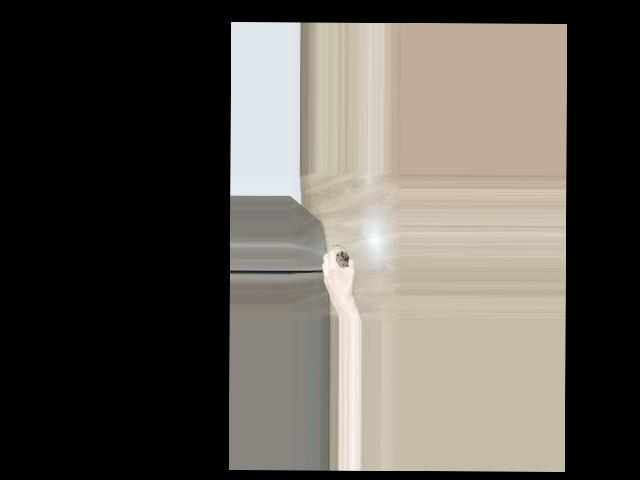beet: (332, 244, 349, 267)
